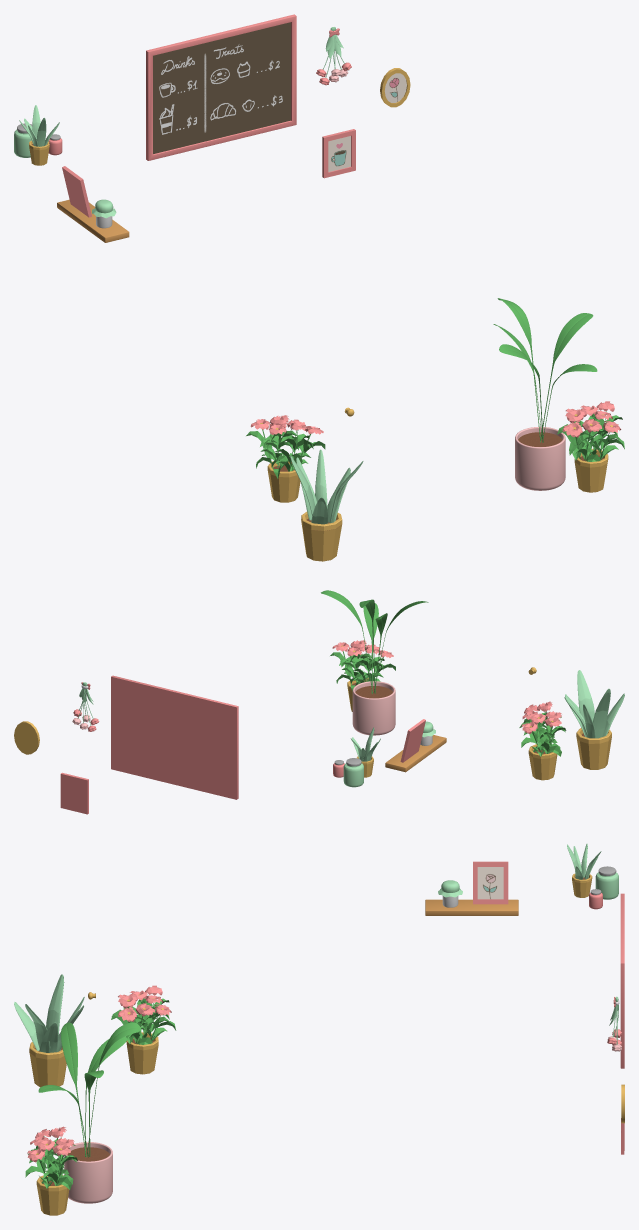
Rendered from Pusheen-Cafe4.fbx.
The picture shows the model from 3 angles, top to bottom: view 1: azimuth 30°, elevation 25°; view 2: azimuth 150°, elevation 25°; view 3: azimuth 270°, elevation 25°; orthographic projection. The views are drawn at different scales.
Parts seen in each view (by area): view 1: Quadro, Mural, group5_Cylinder, folhas, planta02.001, Prateleira, group1_flowerpotFBXASC46010, group1_flowerpotFBXASC046009, group1_jasmineFBXASC046009, Moldura_01, Moldura_03, group1_jasmineFBXASC46010 (+3 smaller); view 2: Mural, group5_Cylinder, folhas, planta02.001, Moldura_03, Prateleira, group1_jasmineFBXASC046009, group1_flowerpotFBXASC046009, Moldura_02, group1_jasmineFBXASC46010, Moldura_01, jasmineFBXASC046010_group002 (+7 smaller); view 3: group5_Cylinder, folhas, Prateleira, planta02.001, group1_jasmineFBXASC46010, group1_flowerpotFBXASC046009, Quadro-pequeno-01, group1_flowerpotFBXASC46010, Mural, group5_Plane_8, Moldura_01, group1_jasmineFBXASC046009 (+7 smaller).
Boxes of the visible parts, x1,y1,x2,y2 form: Quadro: (153, 22, 290, 154); Mural: (146, 14, 296, 160); group5_Cylinder: (515, 426, 565, 490); folhas: (290, 449, 363, 524); planta02.001: (301, 511, 342, 561); Prateleira: (57, 199, 129, 242); group1_flowerpotFBXASC46010: (574, 449, 608, 492); group1_flowerpotFBXASC046009: (267, 461, 300, 502); group1_jasmineFBXASC046009: (246, 429, 297, 478); Moldura_01: (62, 166, 91, 217); Moldura_03: (322, 129, 355, 178); group1_jasmineFBXASC46010: (580, 411, 624, 459); Mural: (111, 675, 238, 799); group5_Cylinder: (352, 681, 395, 735); folhas: (564, 670, 624, 738); planta02.001: (576, 728, 611, 769); Moldura_03: (60, 772, 88, 814); Prateleira: (385, 735, 446, 772); group1_jasmineFBXASC046009: (521, 722, 566, 756); group1_flowerpotFBXASC046009: (528, 744, 557, 780); Moldura_02: (14, 721, 39, 754); group1_jasmineFBXASC46010: (330, 651, 371, 690); Moldura_01: (400, 719, 425, 762); jasmineFBXASC046010_group002: (353, 653, 395, 682); group5_Cylinder: (64, 1142, 112, 1203); folhas: (14, 974, 84, 1052); Prateleira: (425, 899, 518, 915); planta02.001: (29, 1042, 66, 1087); group1_jasmineFBXASC46010: (25, 1149, 77, 1189); group1_flowerpotFBXASC046009: (126, 1032, 158, 1074); Quadro-pequeno-01: (477, 867, 503, 899); group1_flowerpotFBXASC46010: (36, 1175, 69, 1215); Mural: (620, 893, 624, 1068); group5_Plane_8: (61, 1022, 86, 1157); Moldura_01: (473, 861, 508, 904); group1_jasmineFBXASC046009: (132, 998, 176, 1041).
Bounding box in the file's own units: 333 × 199 × 445.
